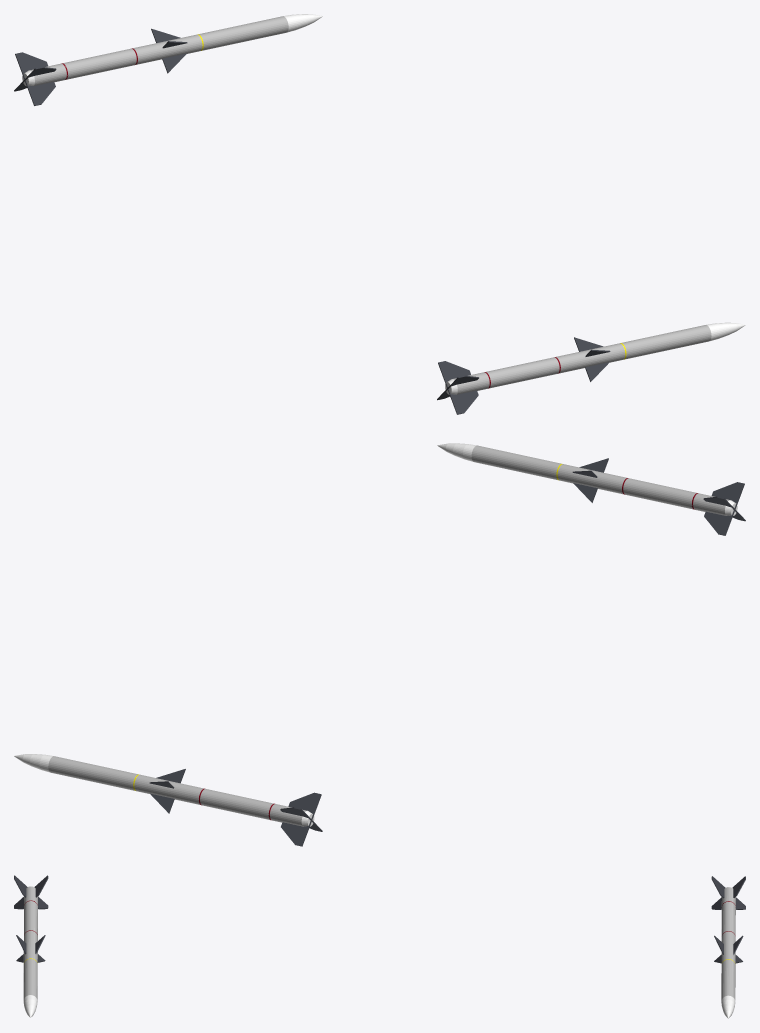
File: f16caim120161.glb
3 renders of one model, top to bottom at view 1: azimuth 30°, elevation 25°; view 2: azimuth 150°, elevation 25°; view 3: azimuth 270°, elevation 25°, orthographic. The views are drawn at different scales.
Parts seen in each view (by area): view 1: 円柱.003, 円柱.004; view 2: 円柱.004, 円柱.003; view 3: 円柱.003, 円柱.004.
Part boxes in pixels (x1=…): 円柱.003: x1=14, y1=14, x2=322, y2=105; 円柱.004: x1=437, y1=322, x2=745, y2=414; 円柱.004: x1=437, y1=443, x2=745, y2=535; 円柱.003: x1=14, y1=754, x2=322, y2=846; 円柱.003: x1=711, y1=876, x2=745, y2=1018; 円柱.004: x1=14, y1=875, x2=48, y2=1017.
Size of the model in its own units: 4.39 by 0.5602 by 11.31.
Materials: 4 (4 with a texture image).
